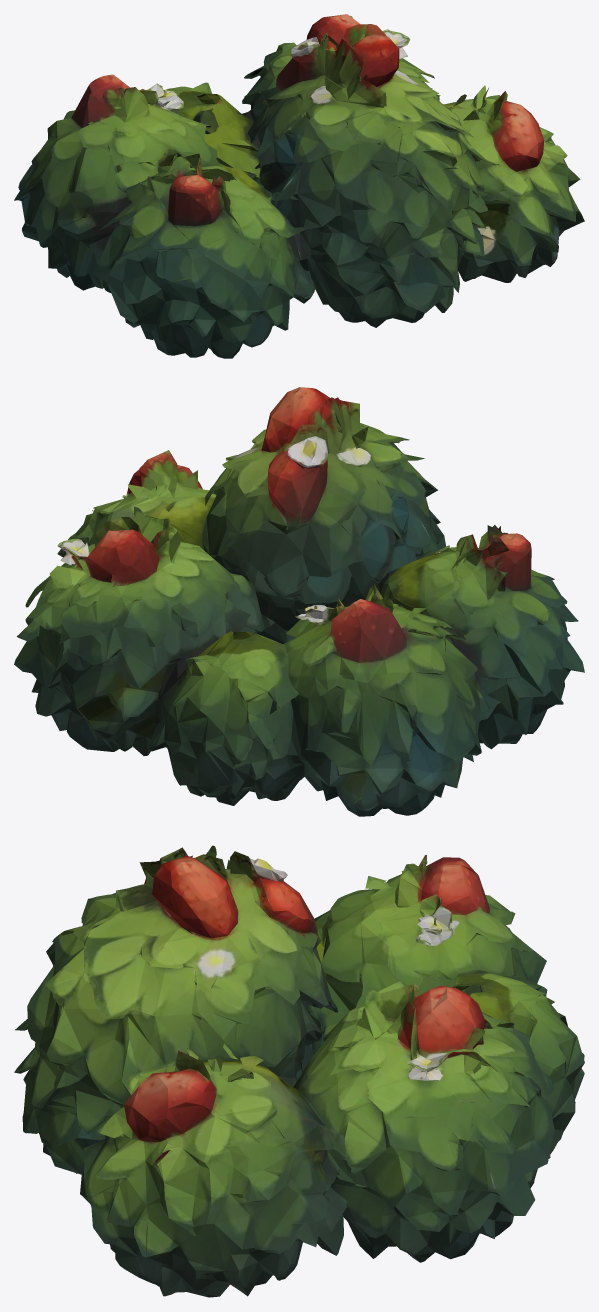
The model's file is berry.glb.
The picture shows the model from 3 angles, top to bottom: view 1: azimuth 30°, elevation 25°; view 2: azimuth 150°, elevation 25°; view 3: azimuth 270°, elevation 25°; orthographic projection. The views are drawn at different scales.
Visible parts, largest first — view 1: world; view 2: world; view 3: world.
Part boxes in pixels (left/top/right/bottom): world: left=14, top=14, right=584, bottom=358; world: left=14, top=387, right=584, bottom=816; world: left=14, top=845, right=584, bottom=1297.
Bounding box in the file's own units: 0.9941 × 0.5536 × 0.8521.
1 material, 1 textured.
